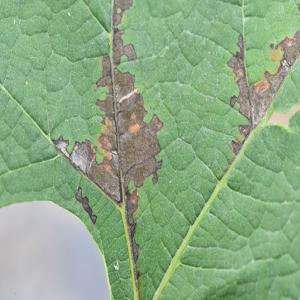Folha: (0, 0, 299, 299)
Fungo: (51, 0, 164, 212), (94, 55, 163, 192), (226, 28, 299, 154), (226, 33, 254, 128), (69, 138, 97, 175), (75, 186, 97, 224), (95, 55, 112, 92), (51, 134, 70, 158), (129, 221, 139, 264), (118, 86, 138, 103), (269, 42, 284, 62), (129, 186, 139, 214), (98, 132, 112, 152), (254, 76, 270, 93), (128, 112, 140, 134), (101, 152, 113, 172), (238, 123, 250, 139), (231, 140, 241, 156), (280, 56, 290, 69), (113, 260, 119, 271)
